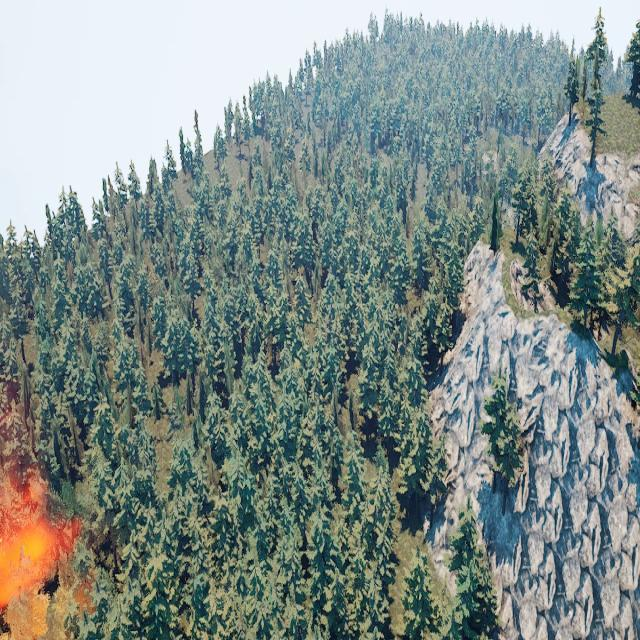fire: (3, 522, 54, 572)
smoke: (0, 374, 78, 640)
